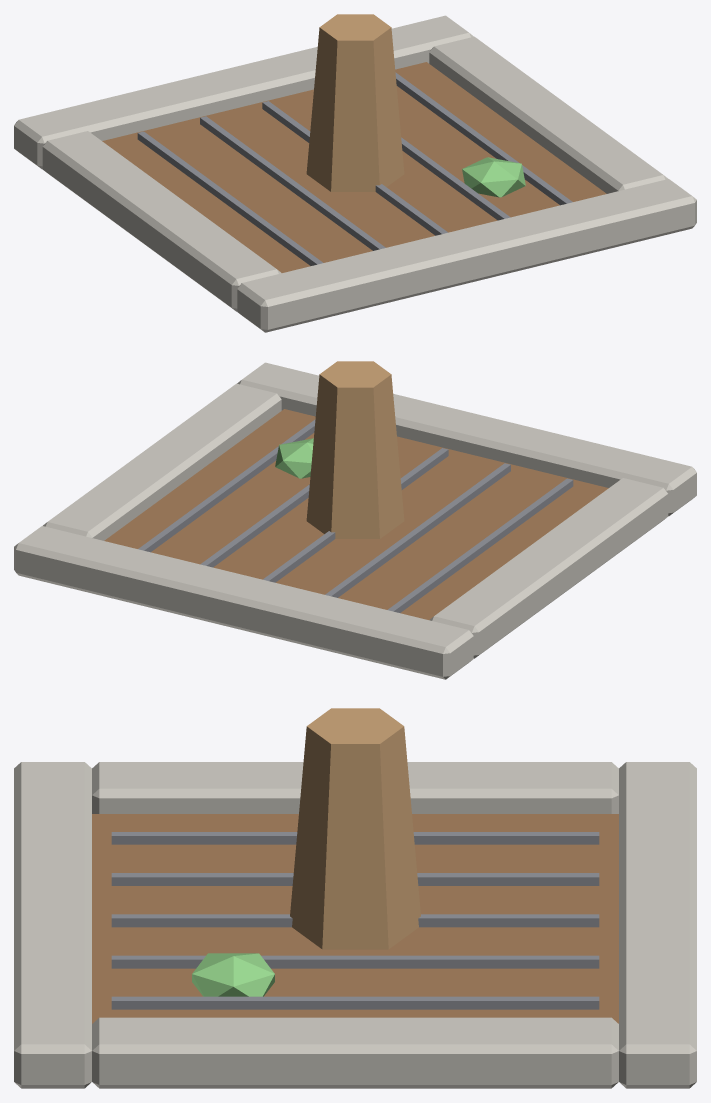
The model's file is env_plaza_tree_pit_01.glb.
The picture shows the model from 3 angles, top to bottom: view 1: azimuth 30°, elevation 25°; view 2: azimuth 150°, elevation 25°; view 3: azimuth 270°, elevation 25°; orthographic projection. The views are drawn at different scales.
Parts seen in each view (by area): view 1: env_plaza_tree_pit_01_body; view 2: env_plaza_tree_pit_01_body; view 3: env_plaza_tree_pit_01_body.
Boxes of the visible parts, box(x1,y1,x2,y2) form: env_plaza_tree_pit_01_body: box(14, 14, 696, 332); env_plaza_tree_pit_01_body: box(14, 361, 696, 679); env_plaza_tree_pit_01_body: box(14, 708, 696, 1088).
Bounding box in the file's own units: 1.4 × 0.5 × 1.4.
